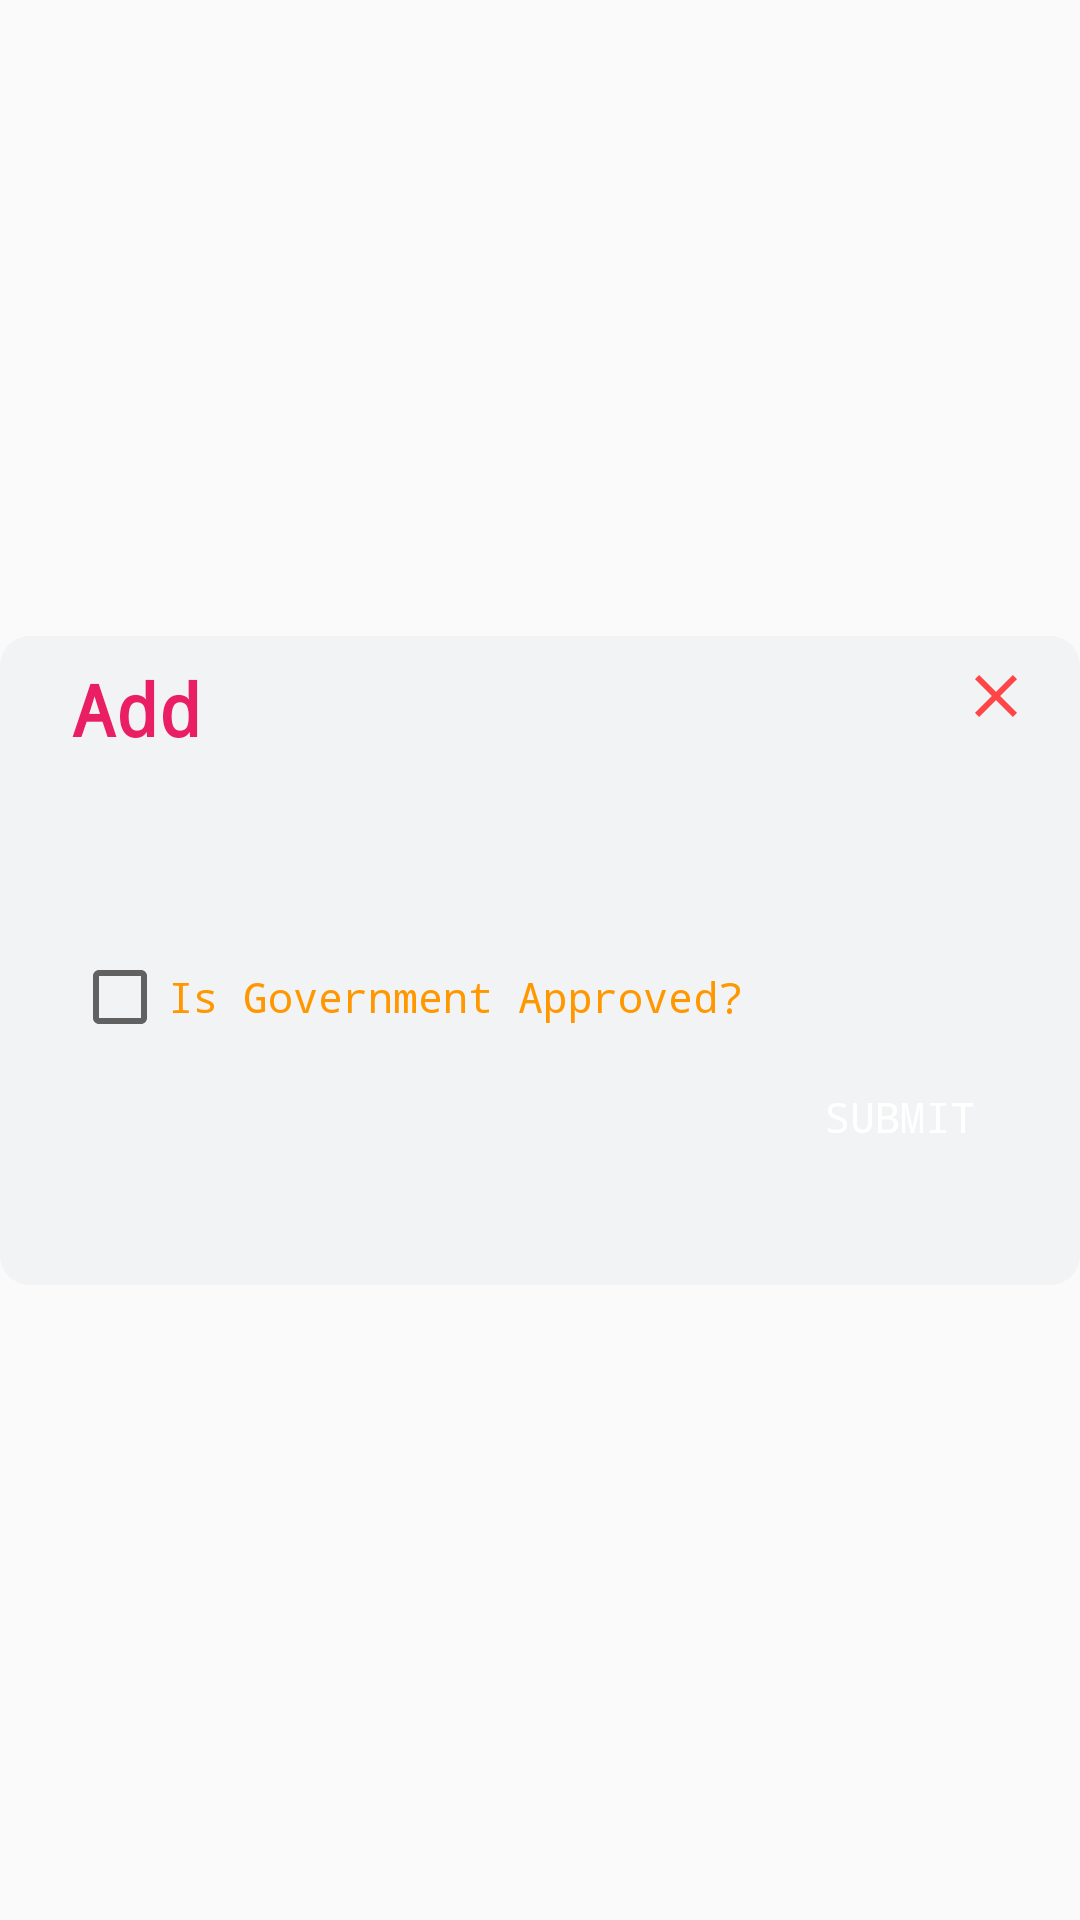

Locate icon controls on the screen. Image size 1080×1920, boxes as (x1, y1, x2, y2).
close: (975, 675, 1017, 717)
